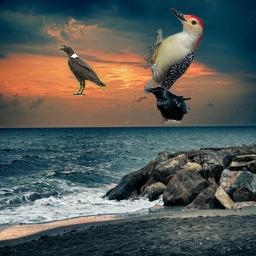Crow: (58, 44, 107, 96), (145, 87, 191, 124)
Woodpecker: (144, 8, 204, 94)
